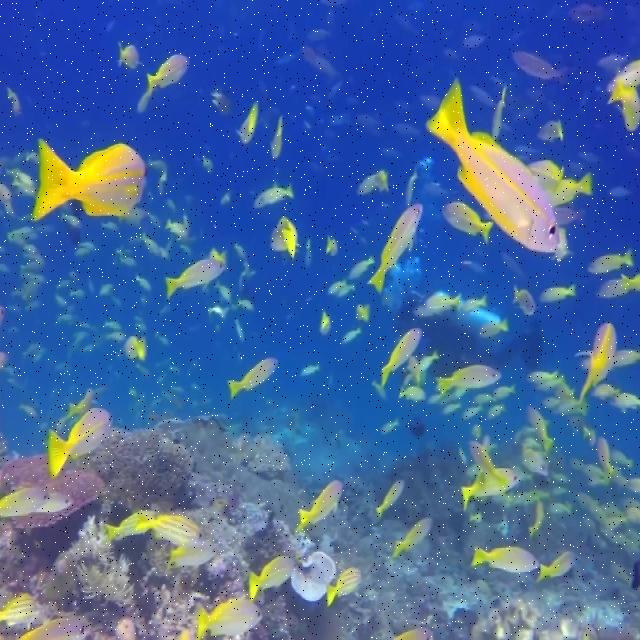fish: (425, 75, 559, 255), (30, 139, 148, 218), (369, 197, 424, 294), (45, 408, 111, 479), (165, 248, 227, 296), (195, 599, 262, 639), (132, 508, 204, 545), (583, 319, 616, 397), (461, 466, 518, 511), (381, 327, 423, 387), (295, 480, 343, 531), (444, 200, 494, 245), (247, 555, 298, 599), (226, 356, 276, 398), (607, 72, 639, 134), (471, 546, 541, 574), (145, 52, 189, 96), (437, 365, 501, 393), (393, 516, 435, 556), (0, 486, 47, 517), (325, 568, 361, 607), (20, 619, 88, 639), (471, 443, 502, 483), (270, 213, 298, 257), (0, 594, 41, 624), (597, 274, 639, 301), (254, 183, 294, 208), (589, 250, 634, 272), (375, 482, 404, 516), (37, 494, 72, 513), (538, 284, 575, 300), (116, 42, 137, 69), (125, 335, 145, 360)
